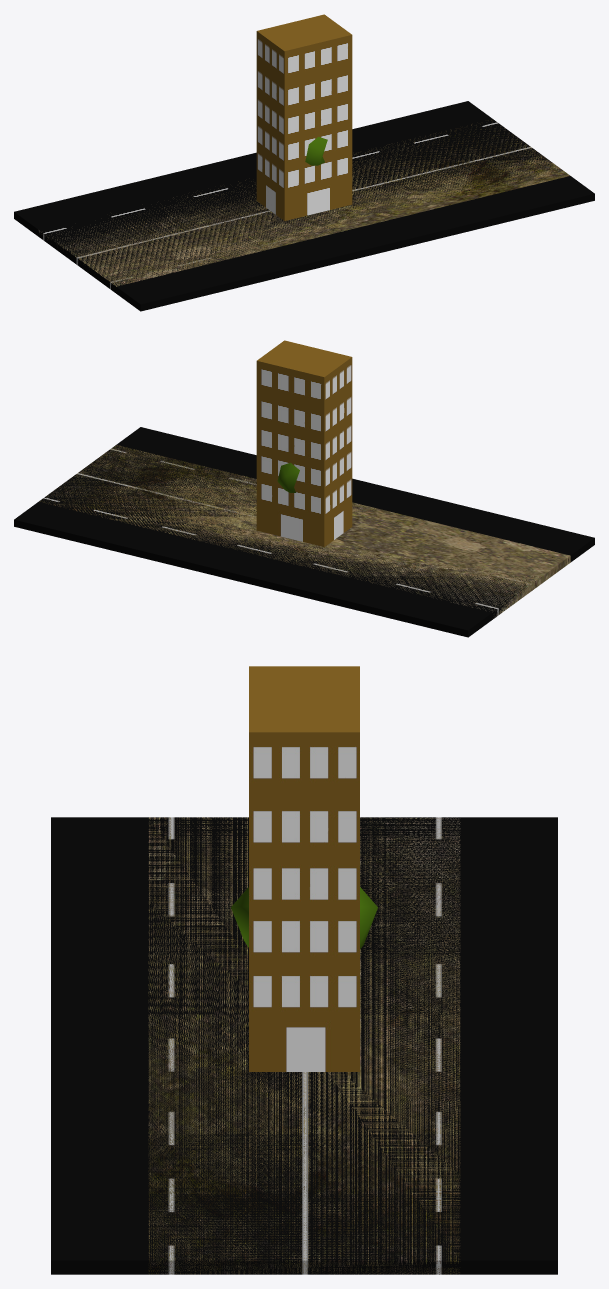
The model's file is models.fbx.
3 views of the same model, one above another, from view 1: azimuth 30°, elevation 25°; view 2: azimuth 150°, elevation 25°; view 3: azimuth 270°, elevation 25° (orthographic). The views are drawn at different scales.
Parts seen in each view (by area): view 1: road, secondaryRoad, building, tree; view 2: road, secondaryRoad, building, tree; view 3: road, secondaryRoad, building, tree.
Part boxes in pixels (left/top/right/bottom): road: left=14, top=101, right=594, bottom=311; secondaryRoad: left=38, top=120, right=570, bottom=286; building: left=256, top=14, right=352, bottom=220; tree: left=305, top=137, right=327, bottom=165; road: left=14, top=427, right=594, bottom=637; secondaryRoad: left=40, top=445, right=570, bottom=618; building: left=256, top=340, right=352, bottom=546; tree: left=277, top=463, right=299, bottom=492; road: left=51, top=817, right=557, bottom=1274; secondaryRoad: left=148, top=817, right=460, bottom=1274; building: left=249, top=666, right=359, bottom=1071; tree: left=231, top=887, right=377, bottom=949.
Bounding box in the file's own units: 24.18 × 9 × 11.68.
